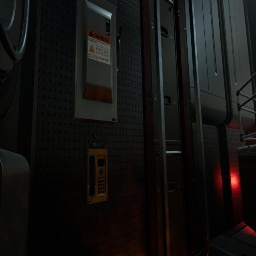EmergencyPhone ,: (82, 133, 108, 204)
SafetySwitchPanel ,: (75, 0, 122, 125)
